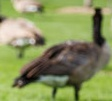goose: (12, 4, 111, 101)
